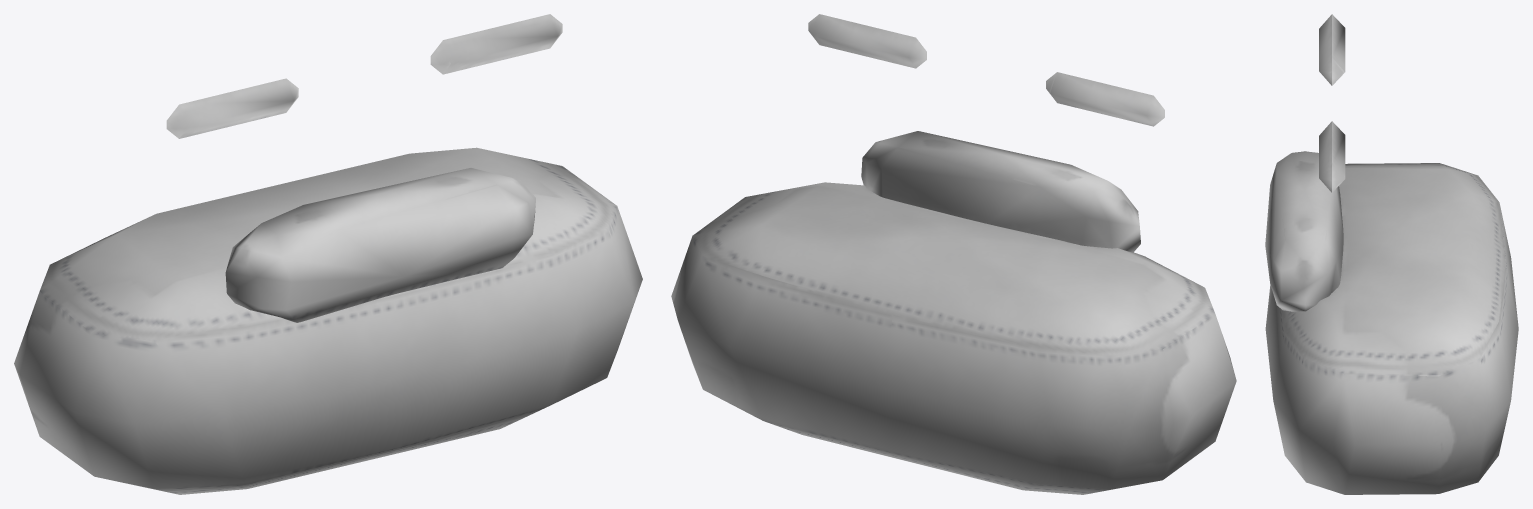
The model's file is Head_C1.fbx.
3 renders of one model, left to right at view 1: azimuth 30°, elevation 25°; view 2: azimuth 150°, elevation 25°; view 3: azimuth 270°, elevation 25°, orthographic. The views are drawn at different scales.
Visible parts, largest first — view 1: Civ_PeladoBarba_Head_C1; view 2: Civ_PeladoBarba_Head_C1; view 3: Civ_PeladoBarba_Head_C1.
Boxes of the visible parts, box(x1,y1,x2,y2) form: Civ_PeladoBarba_Head_C1: box(14, 14, 642, 494); Civ_PeladoBarba_Head_C1: box(671, 14, 1236, 494); Civ_PeladoBarba_Head_C1: box(1265, 14, 1518, 494).
Size of the model in its own units: 1.24 by 0.8336 by 0.5723.
